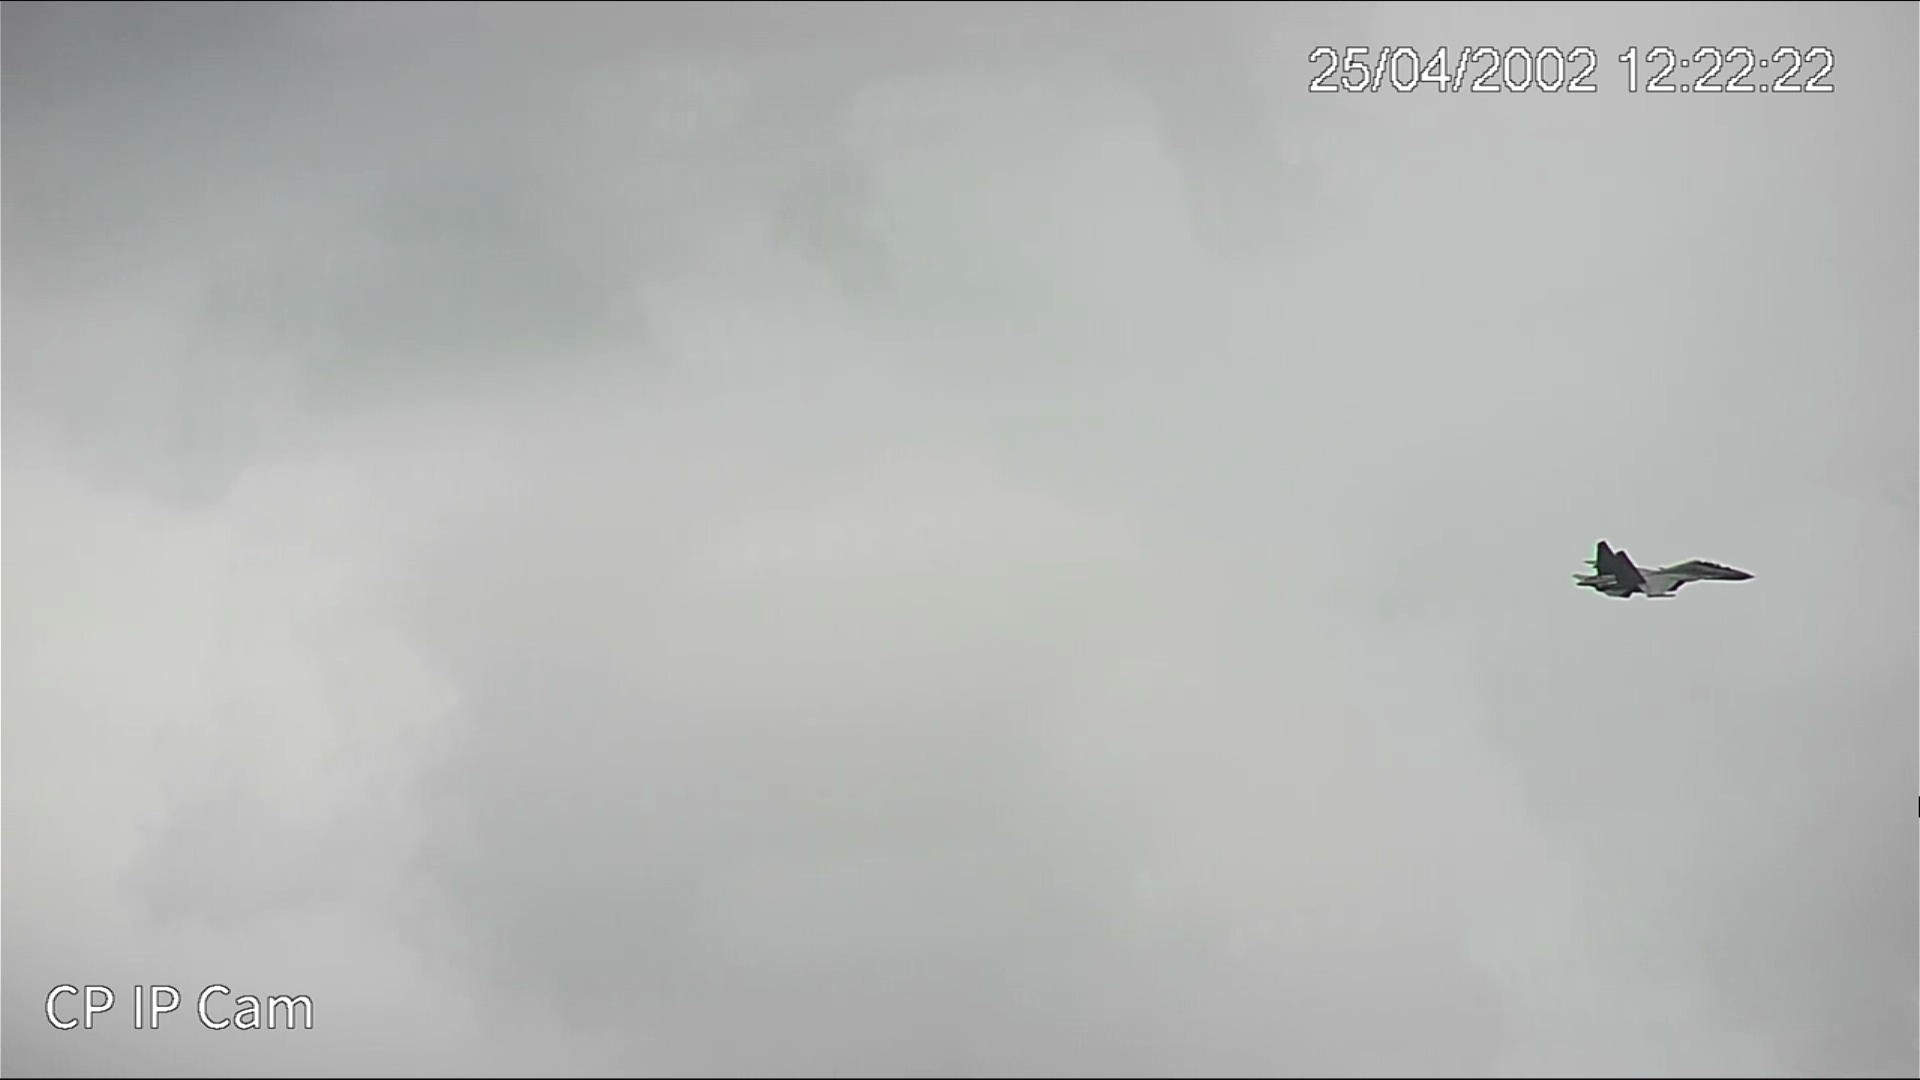SU_30: (1567, 546, 1764, 608)
